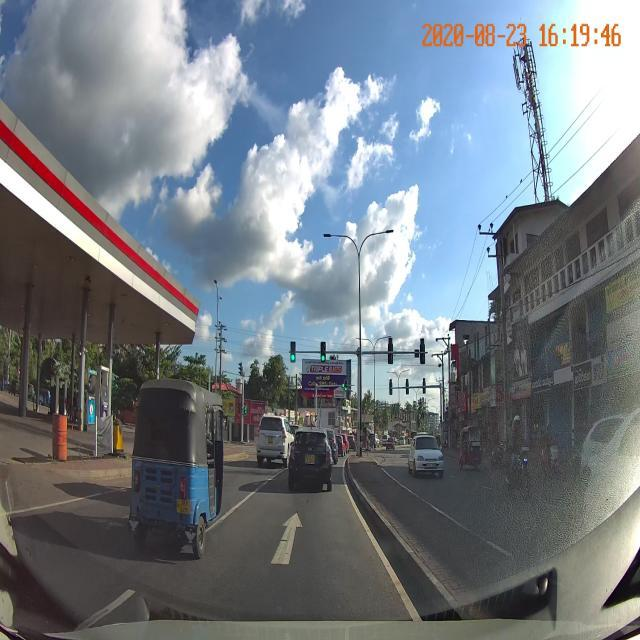forward: (190, 499, 412, 594)
